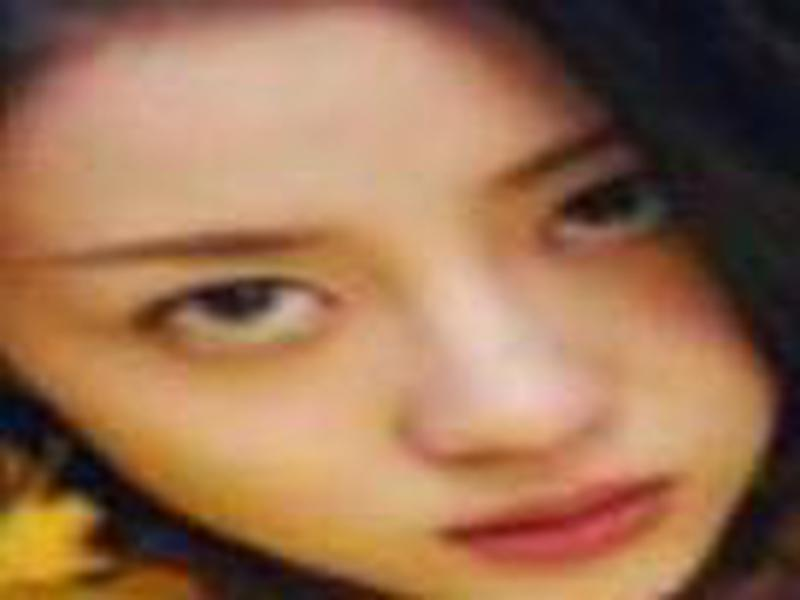without_mask: (10, 18, 776, 599)
